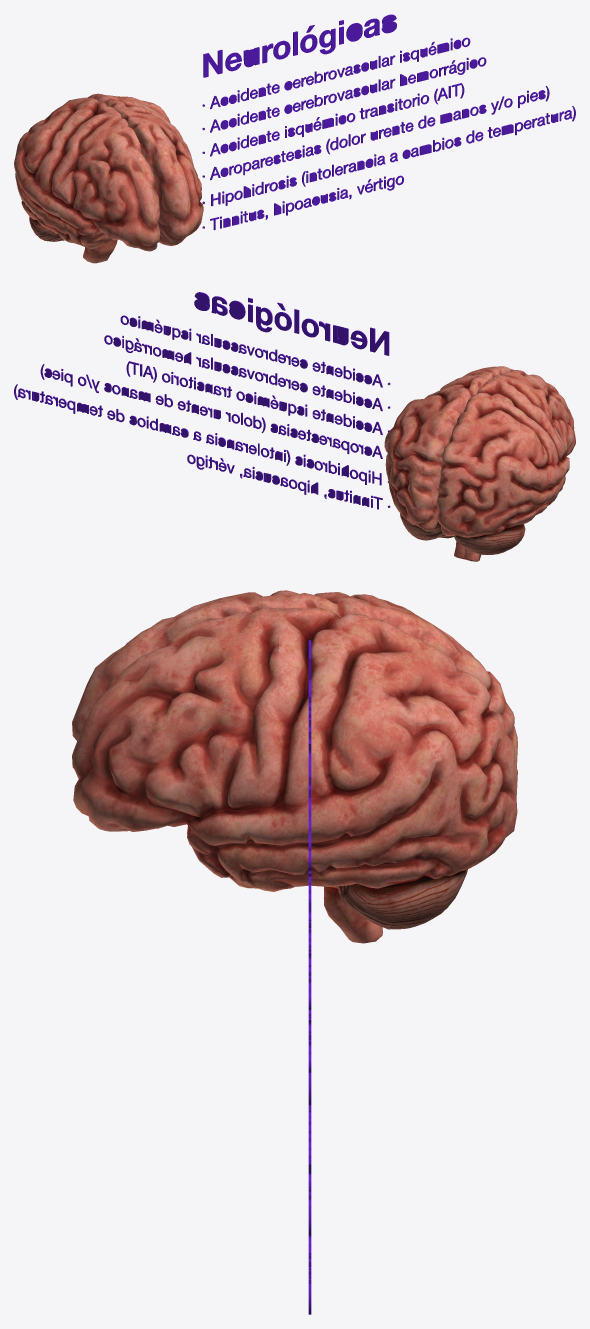
File: brain.obj
3 views of the same model, one above another, from view 1: azimuth 30°, elevation 25°; view 2: azimuth 150°, elevation 25°; view 3: azimuth 270°, elevation 25° (orthographic). The views are drawn at different scales.
Visible parts, largest first — view 1: brain_right, brain_left, Cap_1, Cap_1_5, Cap_1_4, Cap_1_2, Cap_1_1, Cap_1_3, Cap_1_6, Extrude.1, Extrude.2, Extrude.4 (+4 smaller); view 2: brain_right, brain_left, Cap_2, Cap_2_5, Cap_2_4, Cap_2_2, Cap_2_1, Cap_2_3, Cap_2_6, Extrude.1, Extrude.2, Extrude.4 (+4 smaller); view 3: brain_left, brain_right, Extrude.6.
Part boxes in pixels (<box>): brain_right: <box>14,97,159,263</box>; brain_left: <box>88,93,203,261</box>; Cap_1: <box>204,15,396,77</box>; Cap_1_5: <box>203,106,575,206</box>; Cap_1_4: <box>203,86,549,179</box>; Cap_1_2: <box>203,57,486,132</box>; Cap_1_1: <box>203,38,470,108</box>; Cap_1_3: <box>203,83,464,156</box>; Cap_1_6: <box>203,176,403,229</box>; Extrude.1: <box>202,106,574,205</box>; Extrude.2: <box>202,86,547,179</box>; Extrude.4: <box>202,57,484,132</box>; brain_right: <box>436,370,575,561</box>; brain_left: <box>384,366,513,559</box>; Cap_2: <box>194,292,388,355</box>; Cap_2_5: <box>14,384,388,485</box>; Cap_2_4: <box>40,364,381,458</box>; Cap_2_2: <box>104,335,389,410</box>; Cap_2_1: <box>120,316,389,387</box>; Cap_2_3: <box>126,361,388,434</box>; Cap_2_6: <box>187,455,389,509</box>; Extrude.1: <box>15,384,381,485</box>; Extrude.2: <box>42,364,382,458</box>; Extrude.4: <box>105,335,390,410</box>; brain_left: <box>72,607,517,943</box>; brain_right: <box>72,590,517,778</box>; Extrude.6: <box>308,640,311,871</box>.
Bounding box in the file's own units: 489 × 168 × 174.
2 materials, 1 textured.
